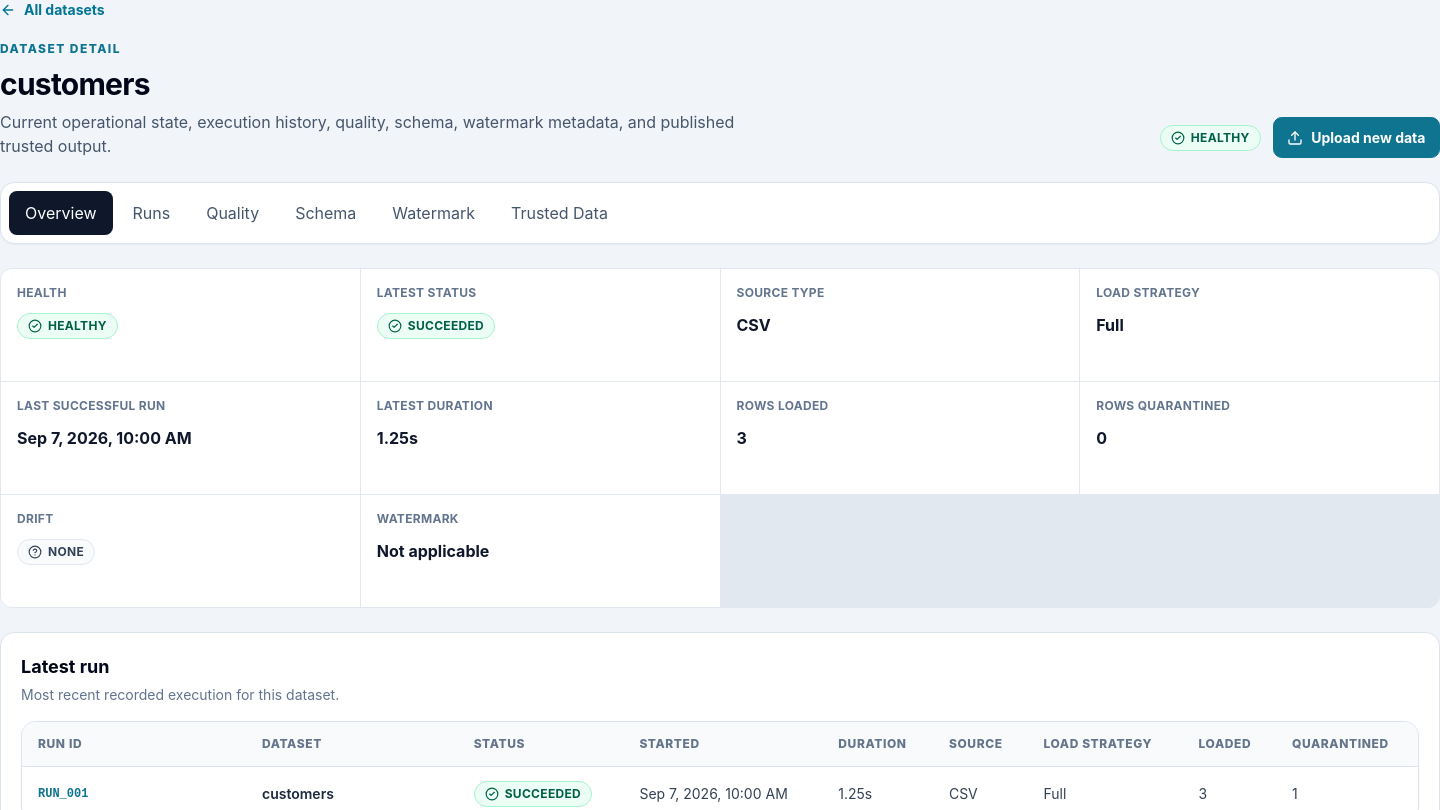
Test: renders the NOT_PUBLISHED trusted-data state
This screenshot has width=1440, height=810.
Click the tab "Trusted Data".
click(559, 213)  # box [495, 191, 624, 235]
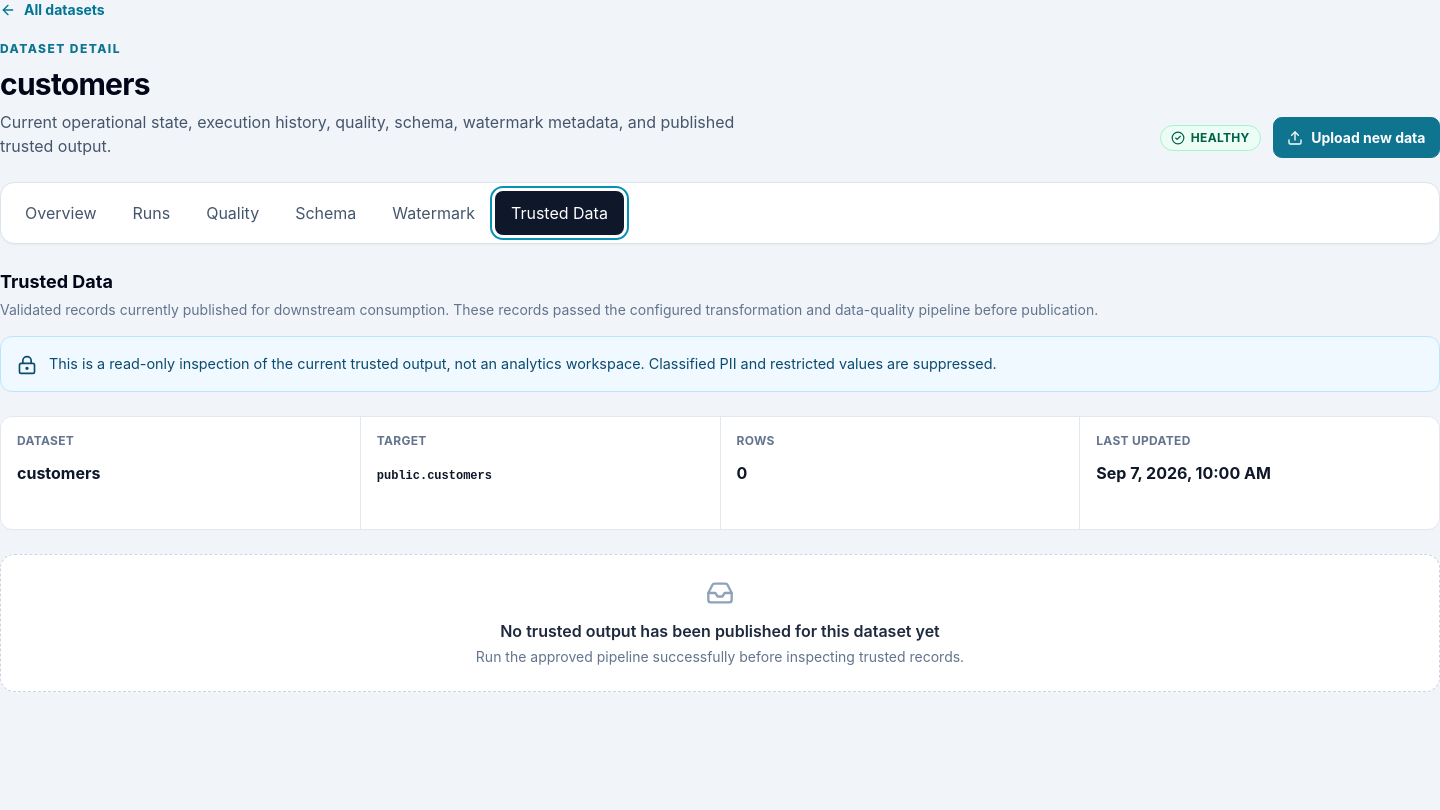
Expected: the text "No trusted output has been published for this dataset yet" is shown, [476, 619, 964, 643]
